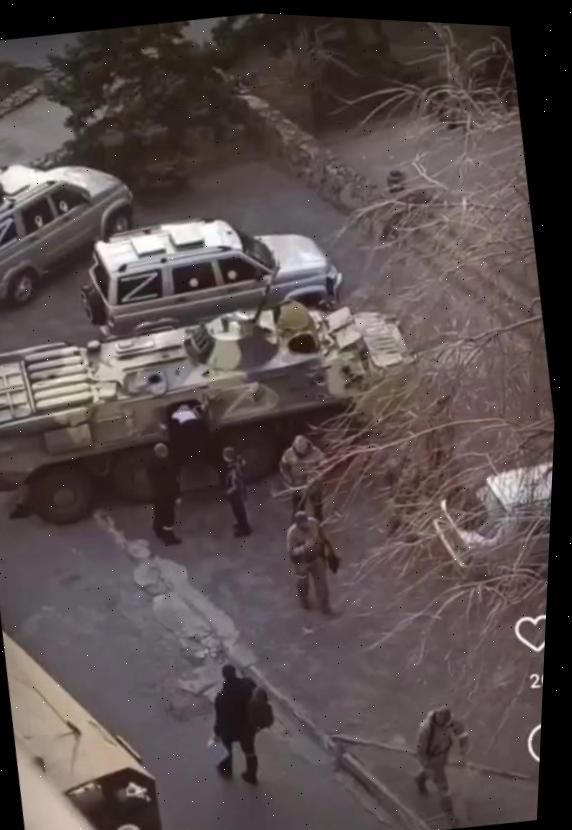car: (68, 188, 354, 358), (0, 139, 151, 322), (415, 455, 553, 620)
person: (192, 654, 287, 793), (402, 701, 484, 830), (278, 504, 353, 624), (272, 431, 338, 528), (135, 438, 192, 550), (215, 442, 259, 540)
tank: (0, 264, 438, 555)
